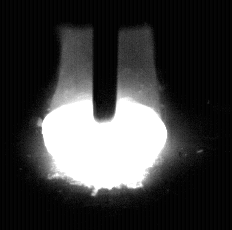arame: (93, 0, 119, 123)
poca: (41, 0, 168, 230)
